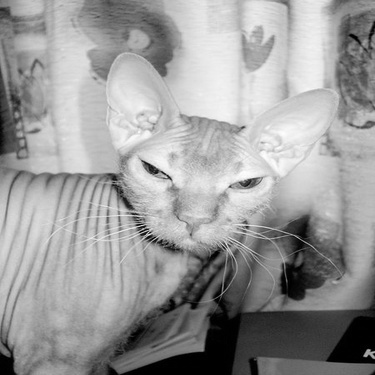cat: (10, 49, 342, 368)
